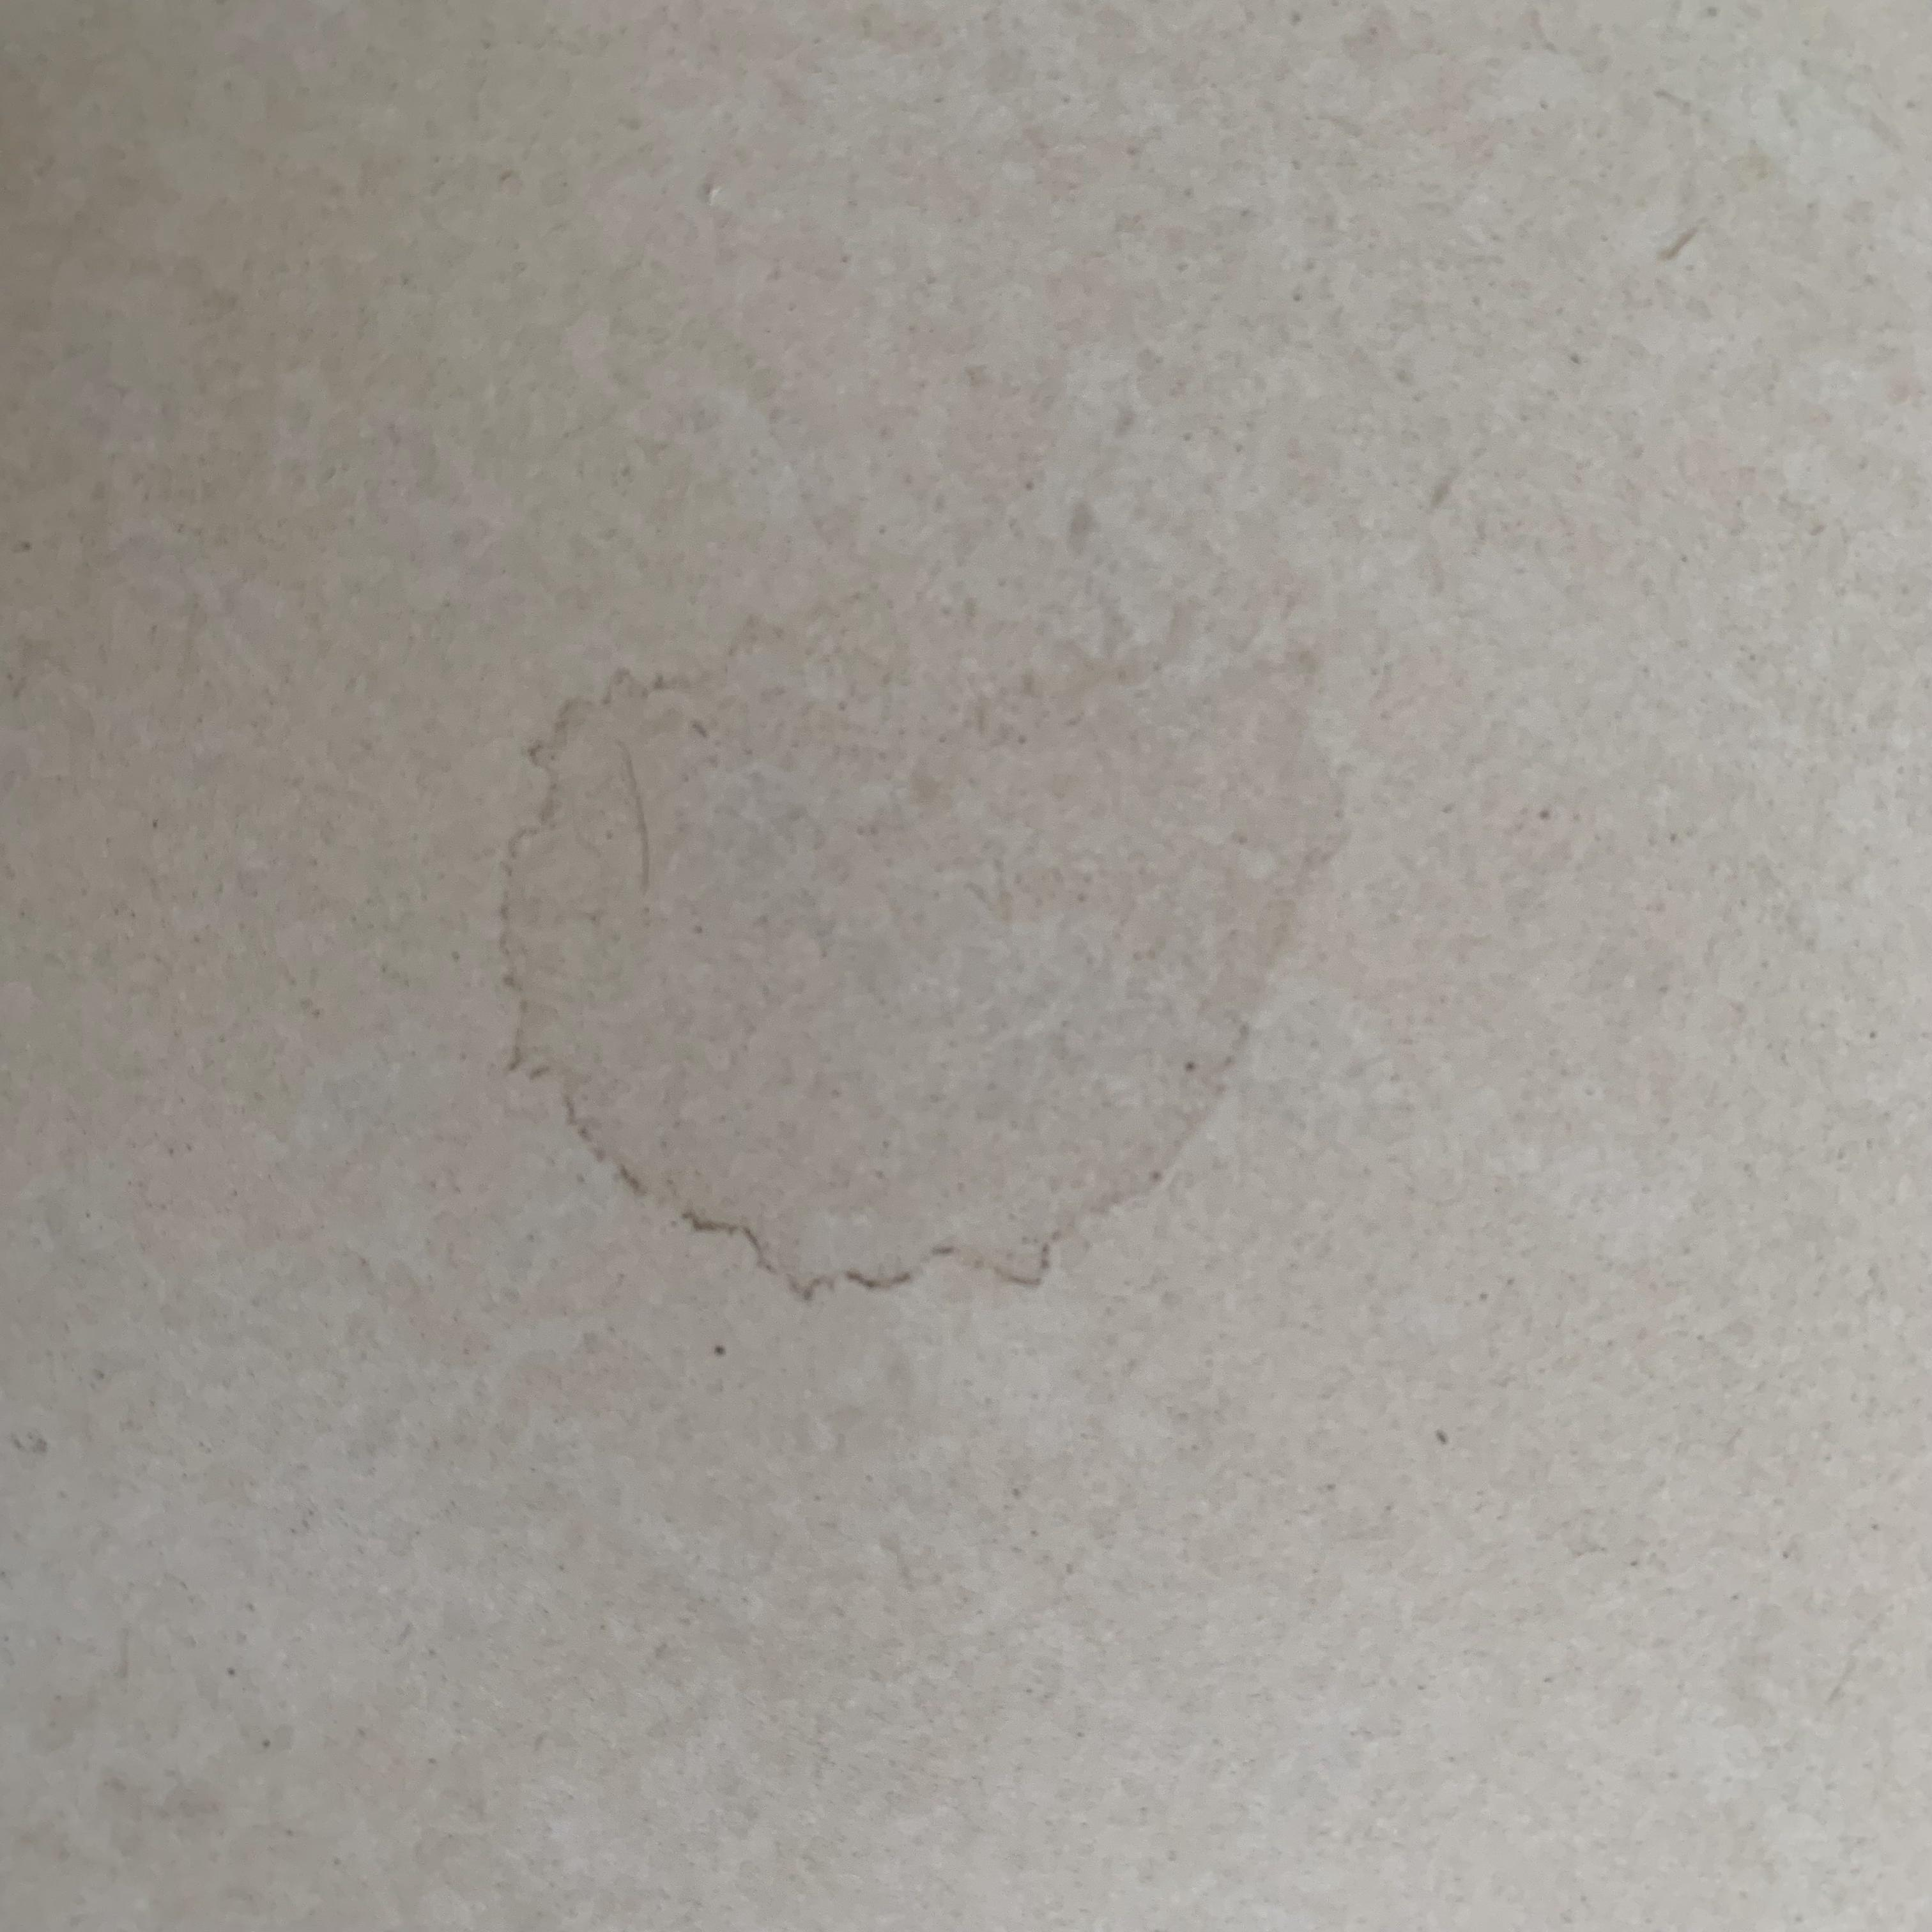grey spot: (501, 591, 1355, 1300)
